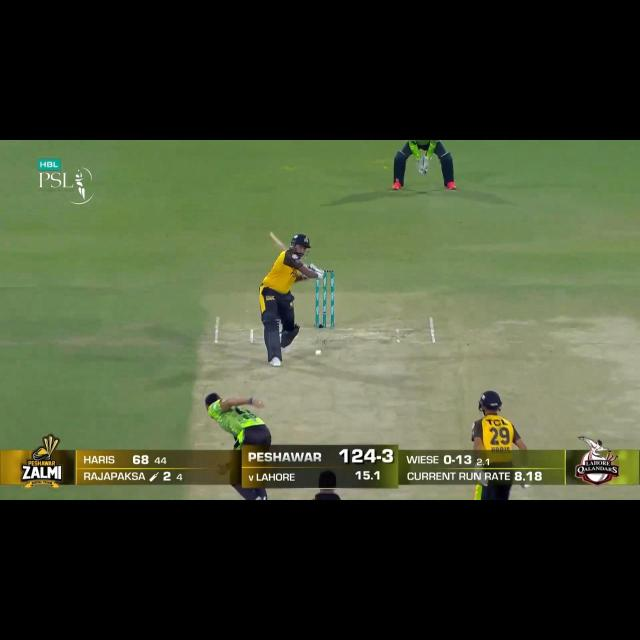bat: (266, 231, 291, 252)
toe: (266, 231, 275, 239)
